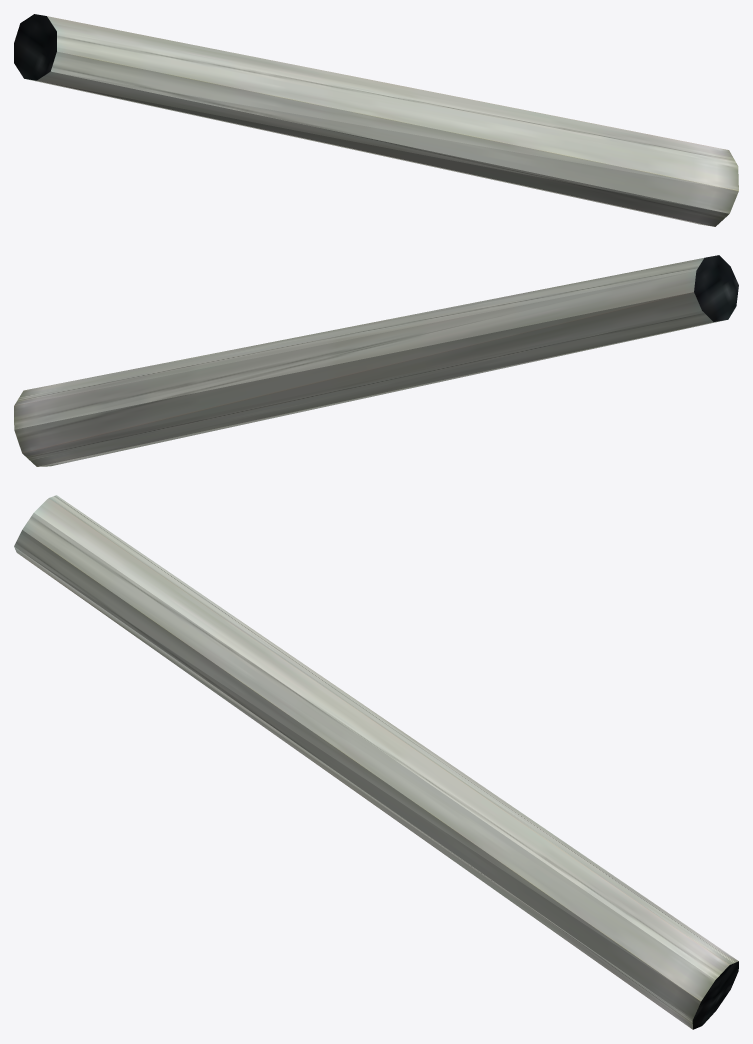
Rendered from ITMI_JOINT_US.glb.
3 renders of one model, top to bottom at view 1: azimuth 30°, elevation 25°; view 2: azimuth 150°, elevation 25°; view 3: azimuth 330°, elevation 25°, orthographic.
Parts seen in each view (by area): view 1: ITMI_JOINT_US; view 2: ITMI_JOINT_US; view 3: ITMI_JOINT_US.
Boxes of the visible parts, x1,y1,x2,y2 form: ITMI_JOINT_US: (14,14,738,226); ITMI_JOINT_US: (14,255,738,466); ITMI_JOINT_US: (14,495,738,1029).
Size of the model in its own units: 0.1491 by 0.0744 by 0.0144.
Materials: 1 (1 with a texture image).
